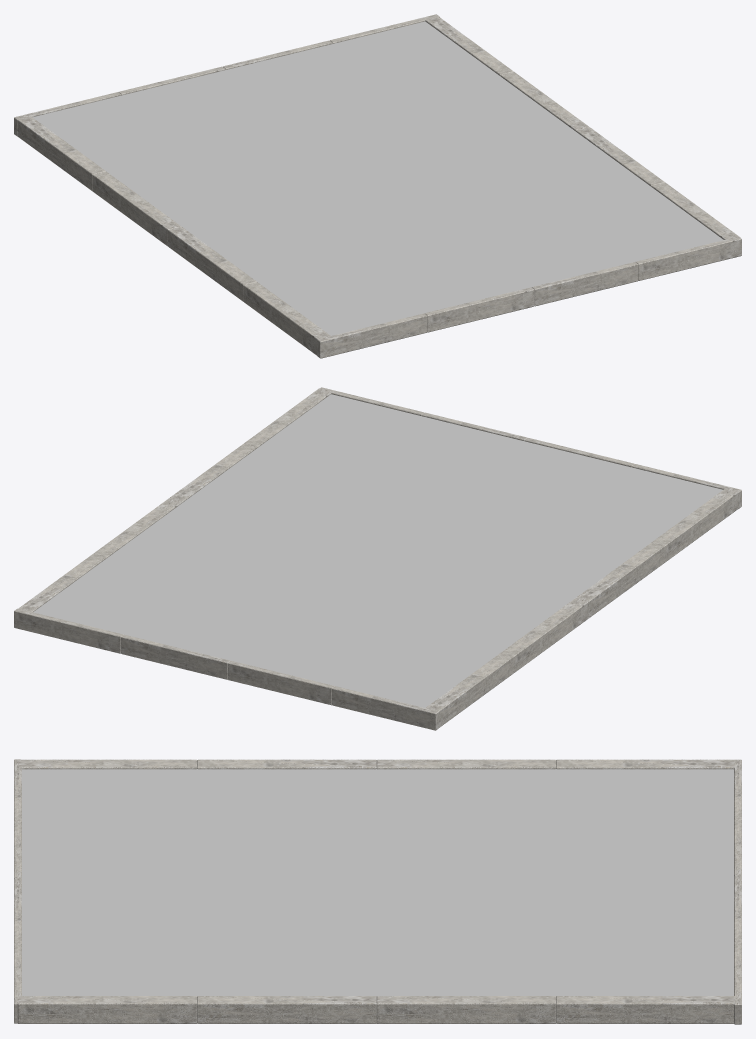
The model's file is SM_JSH_Gidan.fbx.
The picture shows the model from 3 angles, top to bottom: view 1: azimuth 30°, elevation 25°; view 2: azimuth 150°, elevation 25°; view 3: azimuth 270°, elevation 25°; orthographic projection. The views are drawn at different scales.
Parts seen in each view (by area): view 1: SM_JSH_Gidan; view 2: SM_JSH_Gidan; view 3: SM_JSH_Gidan.
Part boxes in pixels (bbox=[...]): SM_JSH_Gidan: bbox=[14, 14, 741, 358]; SM_JSH_Gidan: bbox=[14, 387, 741, 730]; SM_JSH_Gidan: bbox=[14, 759, 741, 1024].
Size of the model in its own units: 692 by 869 by 27.
